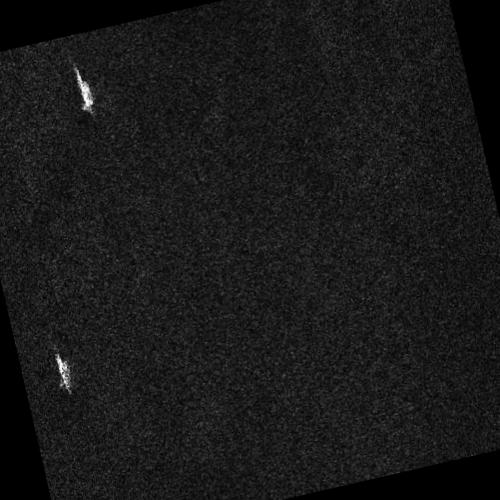ship: (76, 66, 93, 111), (55, 352, 70, 389)
